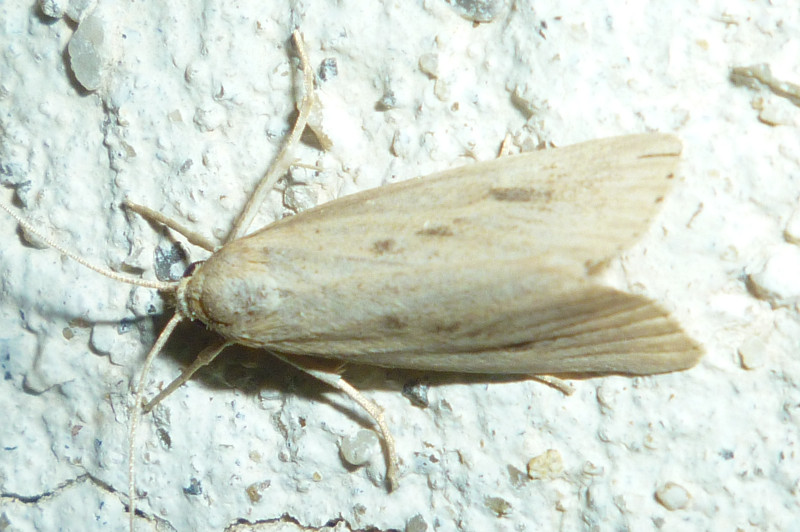Crambidae: (6, 30, 713, 525)
